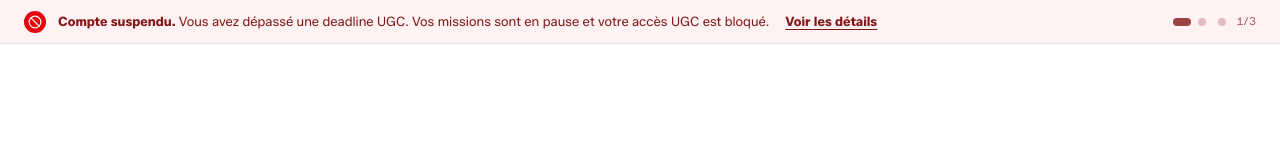
Scenario: AccountAlertBar › ordonne les alertes : suspension, paiement, e-mail ; points et compteur
The width and height of the screenshot is (1280, 160).
Expected: the text with test id "account-alert-count" reads "1/3", [1236,14,1256,28]
What coordinates should you click on to do the following:
click the 2nd button with test id "account-alert-dot"
I would click on:
 (1202, 22)
Its box is [1192,10,1212,34].
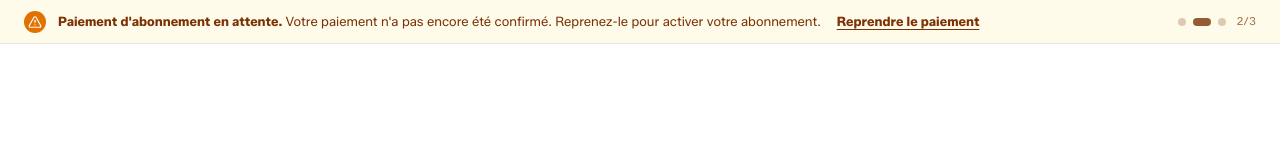
Result: the element with test id "account-alert-content" shows "Paiement d'abonnement en attente" at [58,13,282,29]
Result: the text with test id "account-alert-count" reads "2/3" at [1236,14,1256,28]
What coordinates should you click on to do the following:
click the 3rd button with test id "account-alert-dot"
I would click on:
 (1222, 22)
Its box is [1212,10,1232,34].
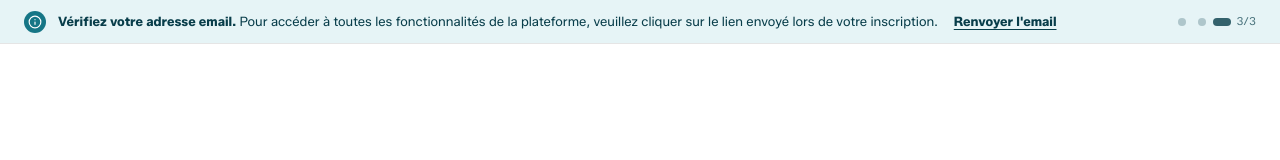
Result: the element with test id "account-alert-content" shows "Vérifiez votre adresse email" at [58,13,236,29]
